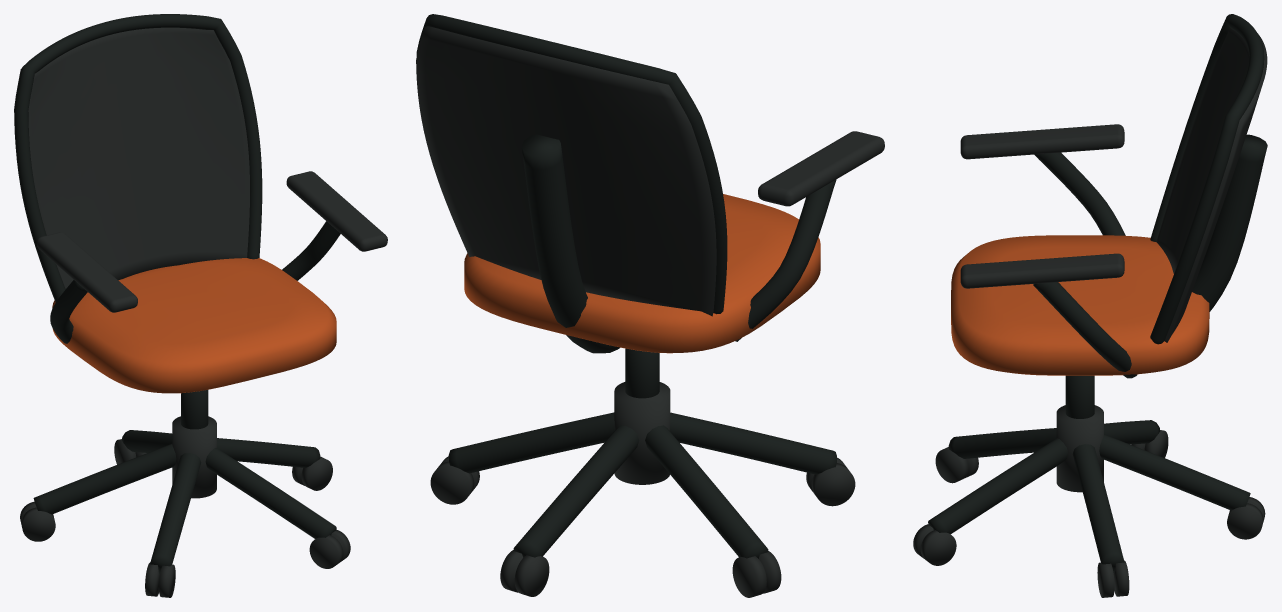
3 views of the same model, side by side, from view 1: azimuth 30°, elevation 25°; view 2: azimuth 150°, elevation 25°; view 3: azimuth 270°, elevation 25° (orthographic). The views are drawn at different scales.
Visible parts, largest first — view 1: Black contoured office chair back shell, Orange upholstered office seat, Molded outer back rim; view 2: Black contoured office chair back shell, Molded outer back rim, Orange upholstered office seat; view 3: Molded outer back rim, Black contoured office chair back shell, Orange upholstered office seat.
Part boxes in pixels (box(x1,y1,x2,y2)): Black contoured office chair back shell: box(14, 27, 387, 597); Orange upholstered office seat: box(52, 258, 336, 393); Molded outer back rim: box(14, 14, 340, 573); Black contoured office chair back shell: box(416, 26, 884, 597); Molded outer back rim: box(416, 14, 836, 558); Orange upholstered office seat: box(464, 194, 820, 353); Molded outer back rim: box(928, 14, 1267, 572); Black contoured office chair back shell: box(913, 28, 1267, 597); Orange upholstered office seat: box(951, 235, 1209, 375).
Size of the model in its own units: 0.6626 by 0.9735 by 0.6585.
